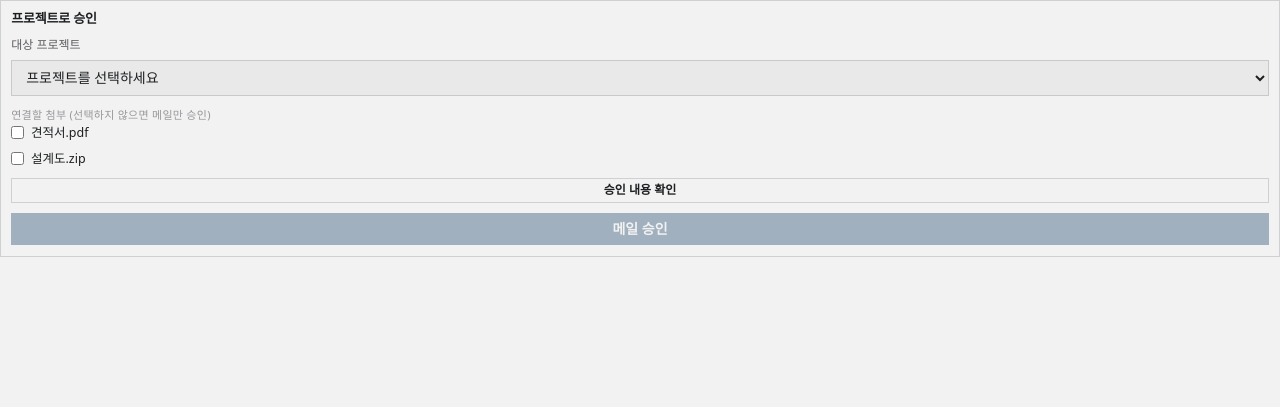
Test case: MailApprovalForm › 프로젝트 선택 후 첨부와 분류를 고르고 요약·확인을 거치면 정확한 payload로 승인한다
Step 1. Select "라온 물류센터" in the dropdown labelled "대상 프로젝트" → [640, 78], box [11, 60, 1269, 96]
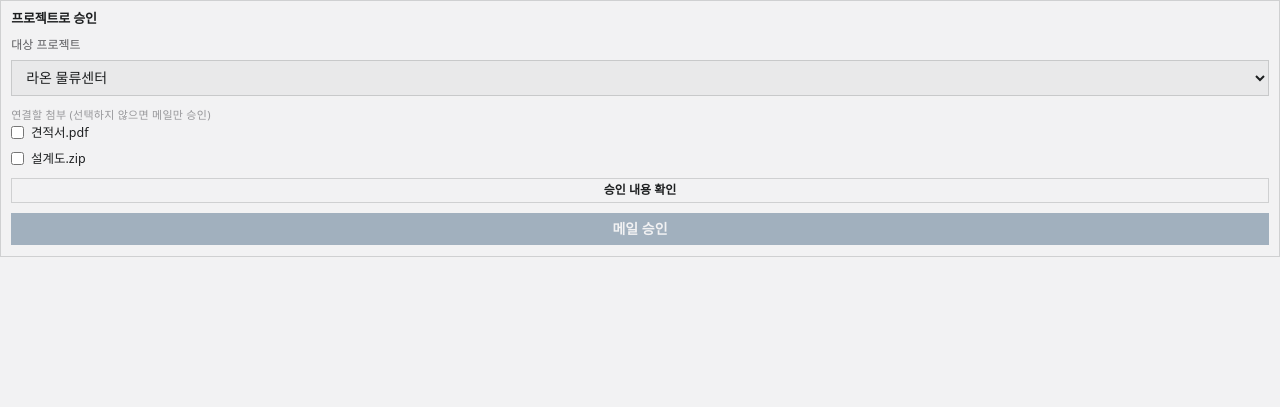
Step 2. Click the checkbox labelled "견적서.pdf" → [18, 132], box [11, 126, 24, 139]
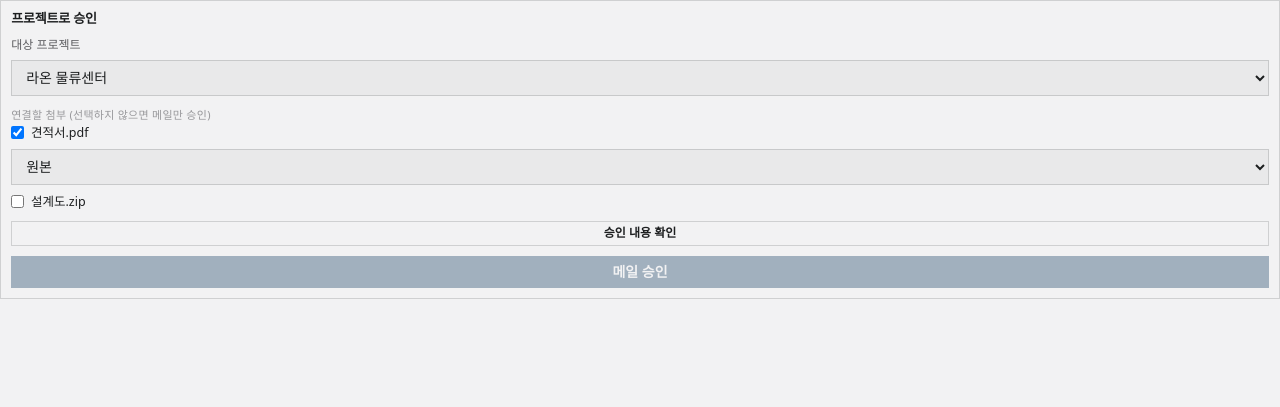
Step 3. Select "보고서" in the dropdown named "견적서.pdf 분류" → [640, 167], box [11, 149, 1269, 185]
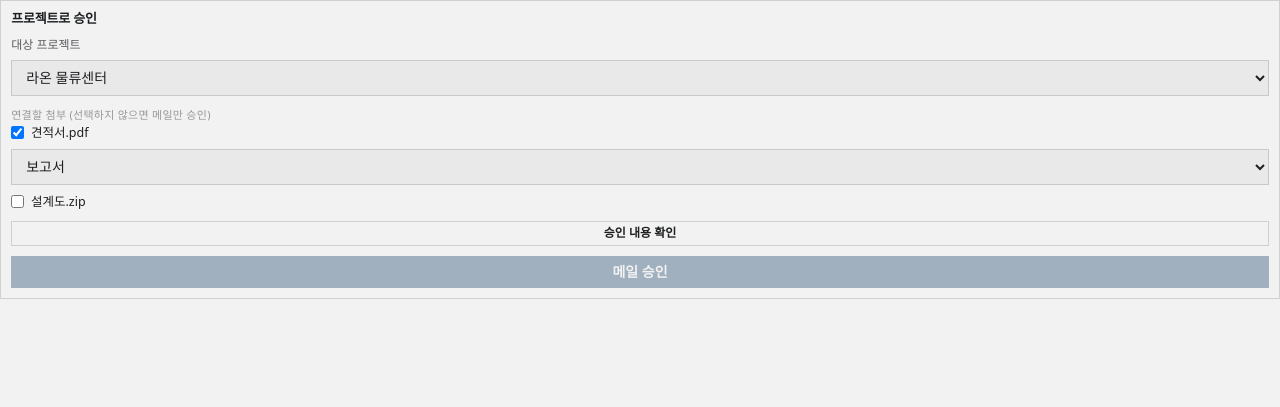
Step 4. Click the button "승인 내용 확인" → [640, 234], box [11, 221, 1269, 246]
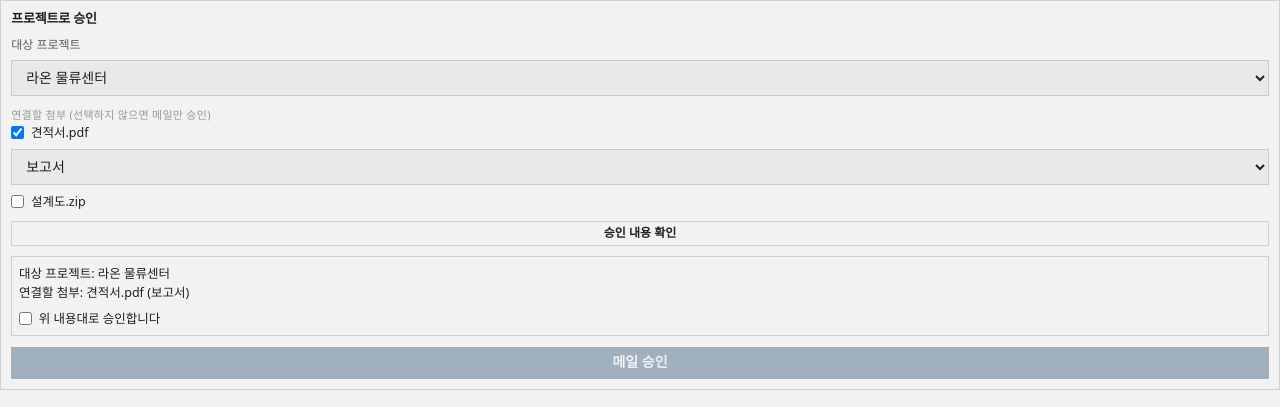
Now the text "연결할 첨부: 견적서.pdf (보고서)" is shown, box [19, 284, 189, 301]
Step 5. Click the checkbox labelled "위 내용대로 승인합니다" → [26, 319], box [19, 312, 32, 325]
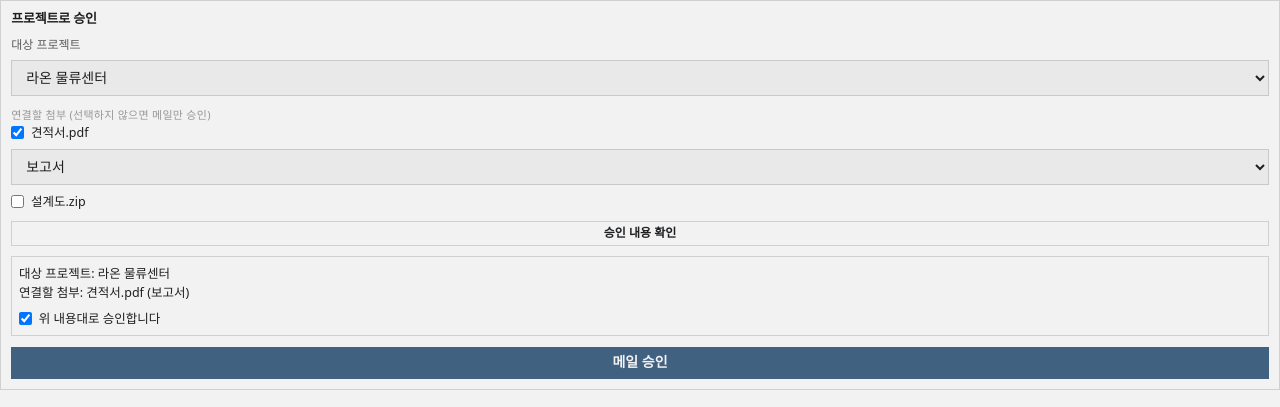
Now the button "메일 승인" is enabled
Step 6. Click the button "메일 승인" → [640, 363], box [11, 347, 1269, 379]
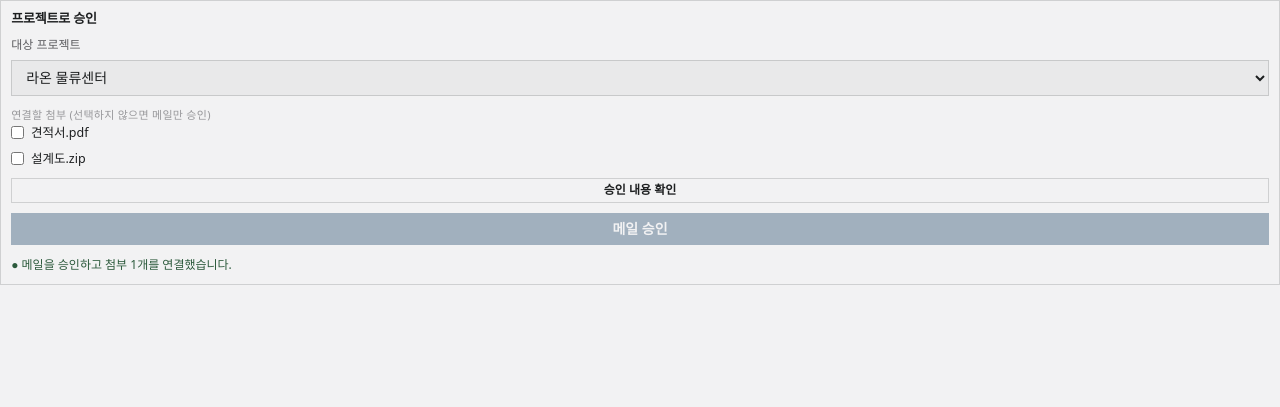
Now the text "메일을 승인하고 첨부 1개를 연결했습니다." is shown, box [22, 256, 232, 273]
